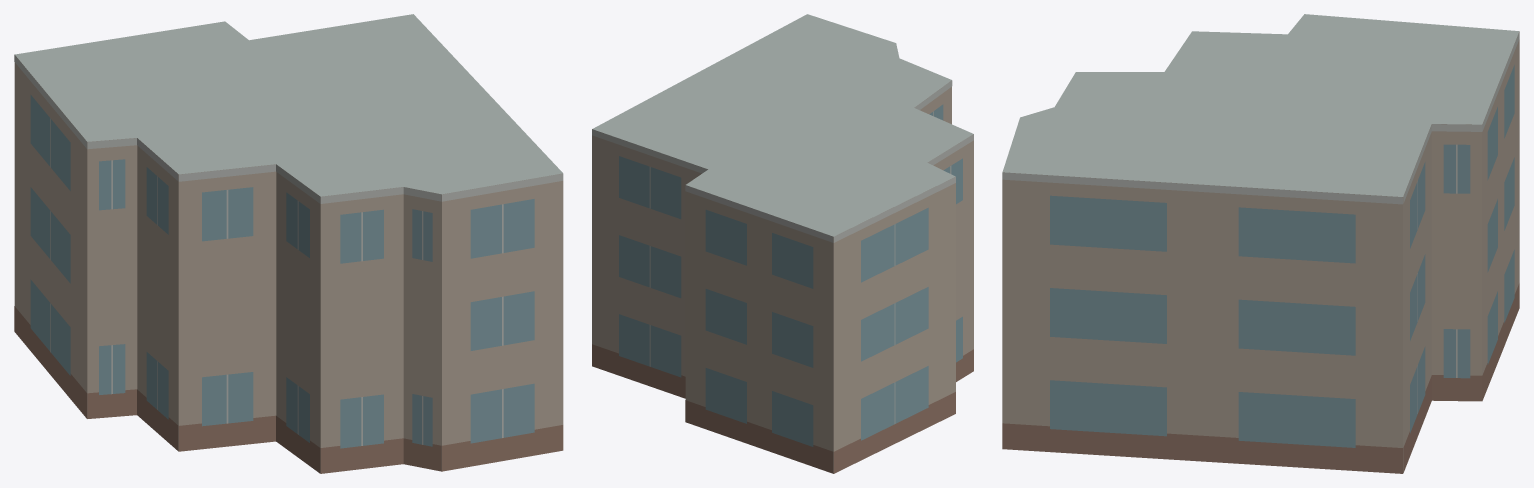
The model's file is survey-upis-32973410.glb.
3 renders of one model, left to right at view 1: azimuth 30°, elevation 25°; view 2: azimuth 150°, elevation 25°; view 3: azimuth 270°, elevation 25°, orthographic. The views are drawn at different scales.
Parts seen in each view (by area): view 1: survey-upis-32973410.tmp; view 2: survey-upis-32973410.tmp; view 3: survey-upis-32973410.tmp.
Part boxes in pixels (bbox=[...]): survey-upis-32973410.tmp: bbox=[14, 14, 563, 473]; survey-upis-32973410.tmp: bbox=[592, 14, 973, 473]; survey-upis-32973410.tmp: bbox=[1002, 14, 1519, 473].
Bounding box in the file's own units: 12.99 × 9.15 × 15.51.
